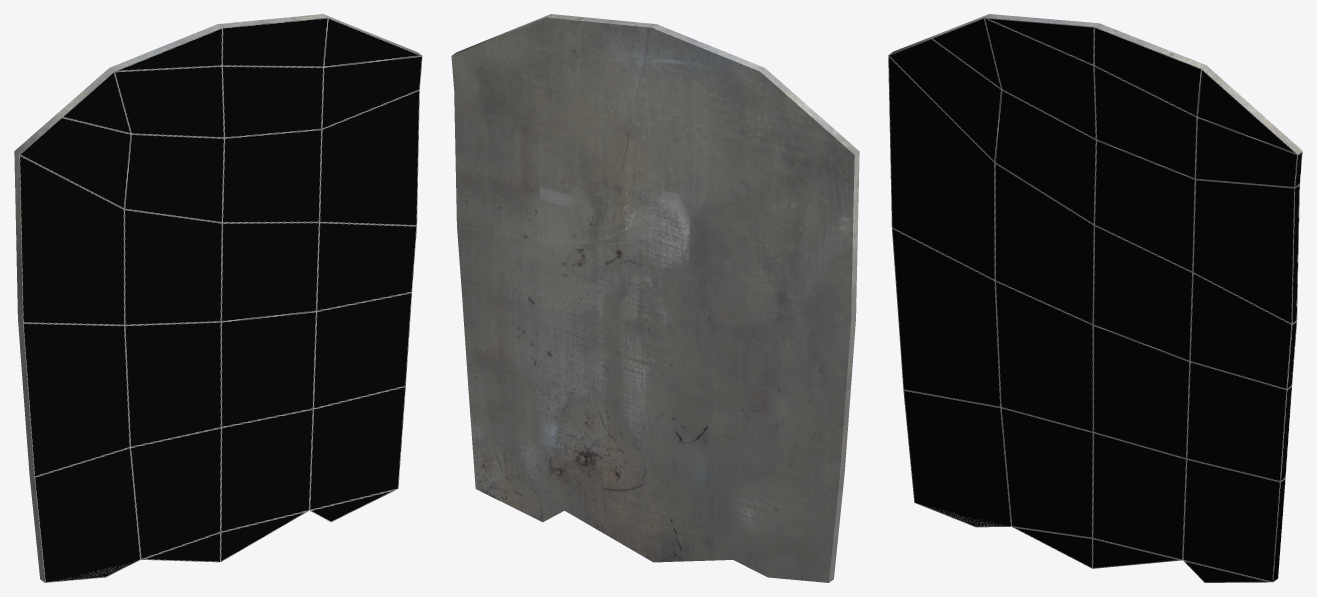
File: wooden_mirror_glass.obj
3 views of the same model, side by side, from view 1: azimuth 30°, elevation 25°; view 2: azimuth 150°, elevation 25°; view 3: azimuth 330°, elevation 25° (orthographic).
Parts seen in each view (by area): view 1: polySurface33; view 2: polySurface33; view 3: polySurface33.
Part boxes in pixels (x1,y1,x2,y2): polySurface33: [14, 14, 422, 582]; polySurface33: [451, 14, 859, 582]; polySurface33: [888, 14, 1302, 582].
Bounding box in the file's own units: 4.26 × 5.4 × 0.0937.
